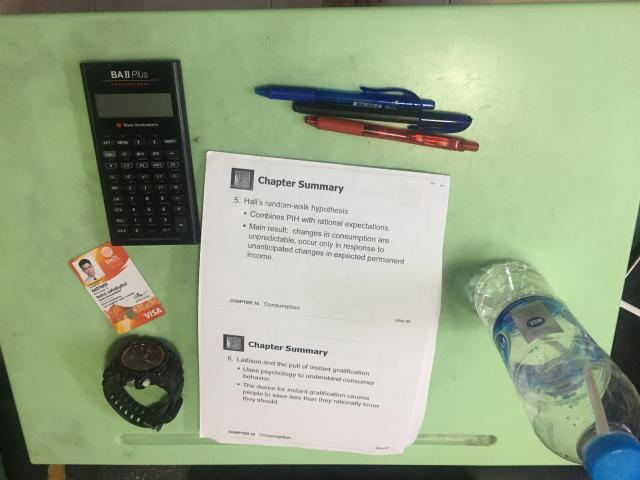Pen: (252, 84, 481, 153)
Watch: (102, 340, 184, 431)
bottle: (474, 261, 640, 479)
paper: (199, 151, 450, 455)
